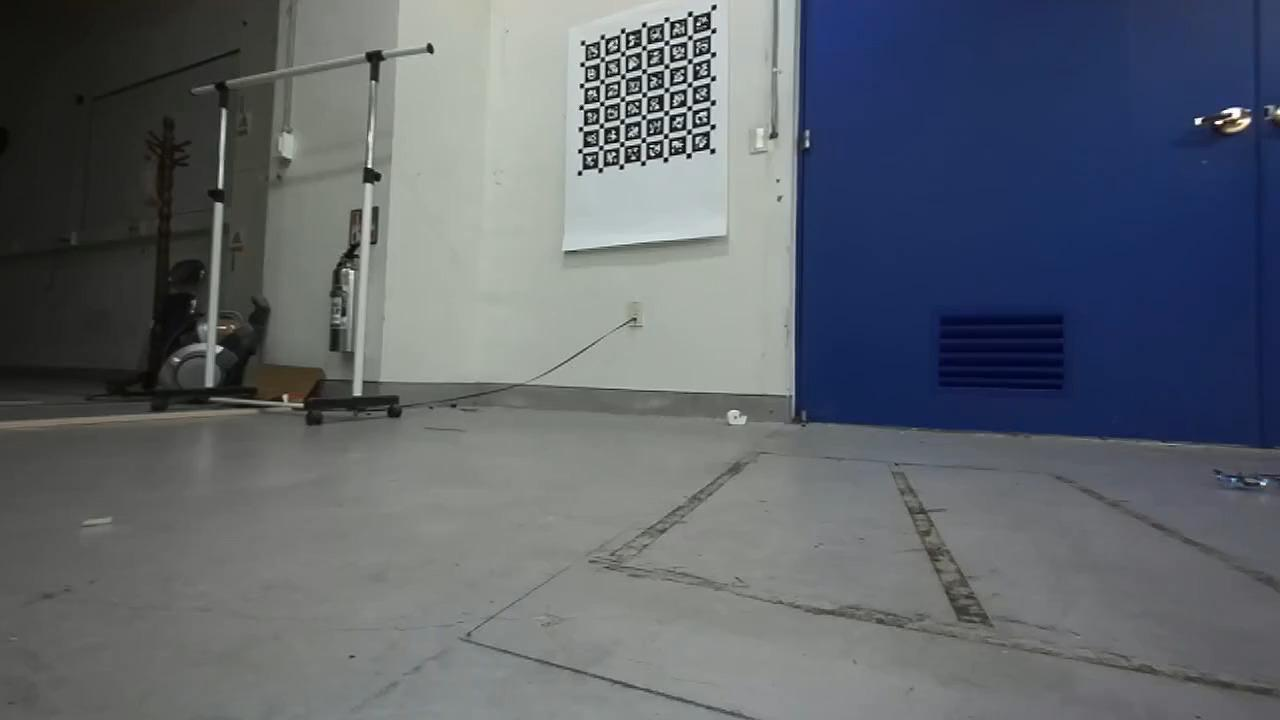crazyflie: (1206, 462, 1280, 498)
